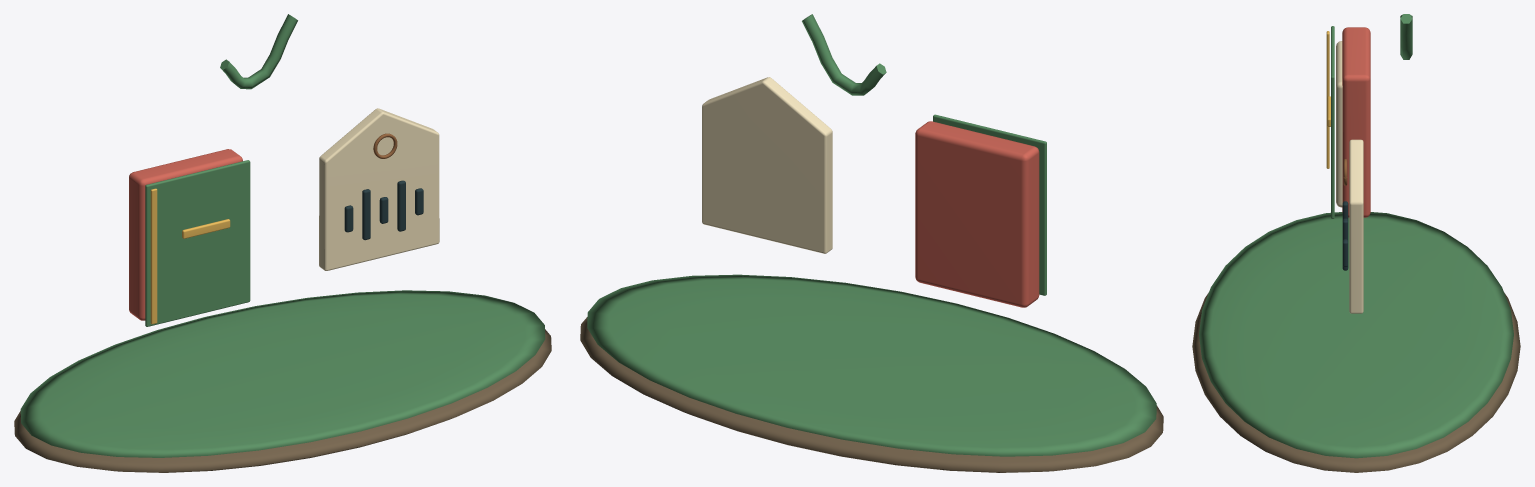
The model's file is complete-third-knowing-recognition.glb.
3 views of the same model, side by side, from view 1: azimuth 30°, elevation 25°; view 2: azimuth 150°, elevation 25°; view 3: azimuth 270°, elevation 25° (orthographic). The views are drawn at different scales.
Parts seen in each view (by area): view 1: complete-third-knowing-recognition_surface_01, complete-third-knowing-recognition_surface_03, complete-third-knowing-recognition_surface_00, complete-third-knowing-recognition_surface_02, complete-third-knowing-recognition_surface_06, complete-third-knowing-recognition_surface_04; view 2: complete-third-knowing-recognition_surface_01, complete-third-knowing-recognition_surface_02, complete-third-knowing-recognition_surface_03, complete-third-knowing-recognition_surface_00; view 3: complete-third-knowing-recognition_surface_01, complete-third-knowing-recognition_surface_00, complete-third-knowing-recognition_surface_02, complete-third-knowing-recognition_surface_03, complete-third-knowing-recognition_surface_04, complete-third-knowing-recognition_surface_06.
Part boxes in pixels (x1,y1,x2,y2): complete-third-knowing-recognition_surface_01: [20, 14, 545, 457]; complete-third-knowing-recognition_surface_03: [319, 108, 439, 270]; complete-third-knowing-recognition_surface_00: [14, 329, 551, 472]; complete-third-knowing-recognition_surface_02: [129, 149, 242, 320]; complete-third-knowing-recognition_surface_06: [344, 180, 423, 240]; complete-third-knowing-recognition_surface_04: [150, 188, 230, 324]; complete-third-knowing-recognition_surface_01: [587, 14, 1156, 456]; complete-third-knowing-recognition_surface_02: [915, 121, 1039, 307]; complete-third-knowing-recognition_surface_03: [702, 77, 832, 253]; complete-third-knowing-recognition_surface_00: [580, 317, 1163, 472]; complete-third-knowing-recognition_surface_01: [1199, 14, 1513, 458]; complete-third-knowing-recognition_surface_00: [1192, 292, 1520, 472]; complete-third-knowing-recognition_surface_02: [1342, 27, 1370, 217]; complete-third-knowing-recognition_surface_03: [1336, 41, 1363, 313]; complete-third-knowing-recognition_surface_04: [1326, 31, 1330, 168]; complete-third-knowing-recognition_surface_06: [1342, 201, 1348, 270].
Bounding box in the file's own units: 4.56 × 3.05 × 2.5.
